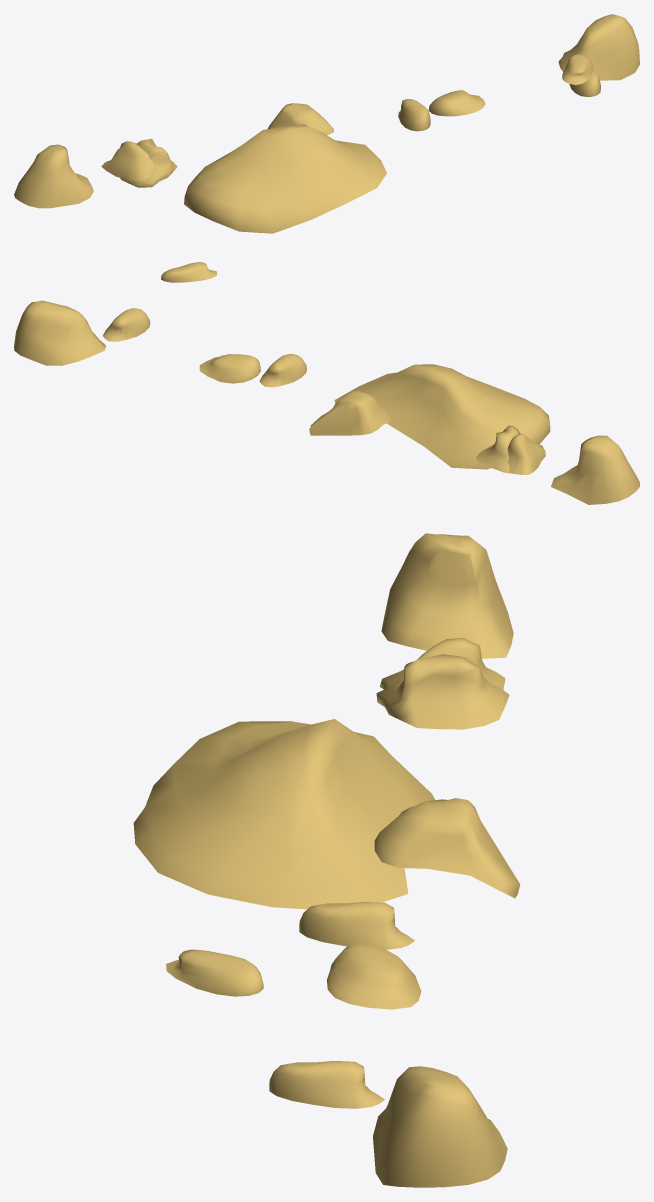
File: Sand_Mesh.fbx
3 views of the same model, one above another, from view 1: azimuth 30°, elevation 25°; view 2: azimuth 150°, elevation 25°; view 3: azimuth 270°, elevation 25° (orthographic). The views are drawn at different scales.
Visible parts, largest first — view 1: pCube48, pCube30, pCube40, pCube52, pCube43, pCube31, pCube34, pCube32, pCube39, pCube38; view 2: pCube48, pCube40, pCube30, pCube43, pCube31, pCube52, pCube32, pCube38, pCube34, pCube39; view 3: pCube48, pCube40, pCube30, pCube43, pCube34, pCube31, pCube38, pCube32, pCube39, pCube52.
Boxes of the visible parts, <box> form: pCube48: <box>184,124,386,233</box>; pCube30: <box>14,144,93,208</box>; pCube40: <box>558,14,639,80</box>; pCube52: <box>101,141,156,184</box>; pCube43: <box>267,103,333,135</box>; pCube31: <box>428,90,485,116</box>; pCube34: <box>120,138,177,187</box>; pCube32: <box>398,99,430,131</box>; pCube39: <box>562,54,593,85</box>; pCube38: <box>569,71,600,96</box>; pCube48: <box>334,364,550,469</box>; pCube40: <box>14,300,105,365</box>; pCube30: <box>551,435,639,504</box>; pCube43: <box>309,390,391,435</box>; pCube31: <box>199,354,260,383</box>; pCube52: <box>507,433,545,474</box>; pCube32: <box>259,353,306,387</box>; pCube38: <box>103,308,150,341</box>; pCube34: <box>476,425,519,474</box>; pCube39: <box>161,262,217,282</box>; pCube48: <box>133,719,434,909</box>; pCube40: <box>373,1066,507,1187</box>; pCube30: <box>381,533,513,658</box>; pCube43: <box>374,798,520,898</box>; pCube34: <box>376,654,509,729</box>; pCube31: <box>327,944,421,1009</box>; pCube38: <box>269,1061,384,1108</box>; pCube32: <box>299,902,414,949</box>; pCube39: <box>166,949,263,996</box>; pCube52: <box>379,637,505,689</box>.
Size of the model in its own units: 109 by 14.12 by 29.81.
